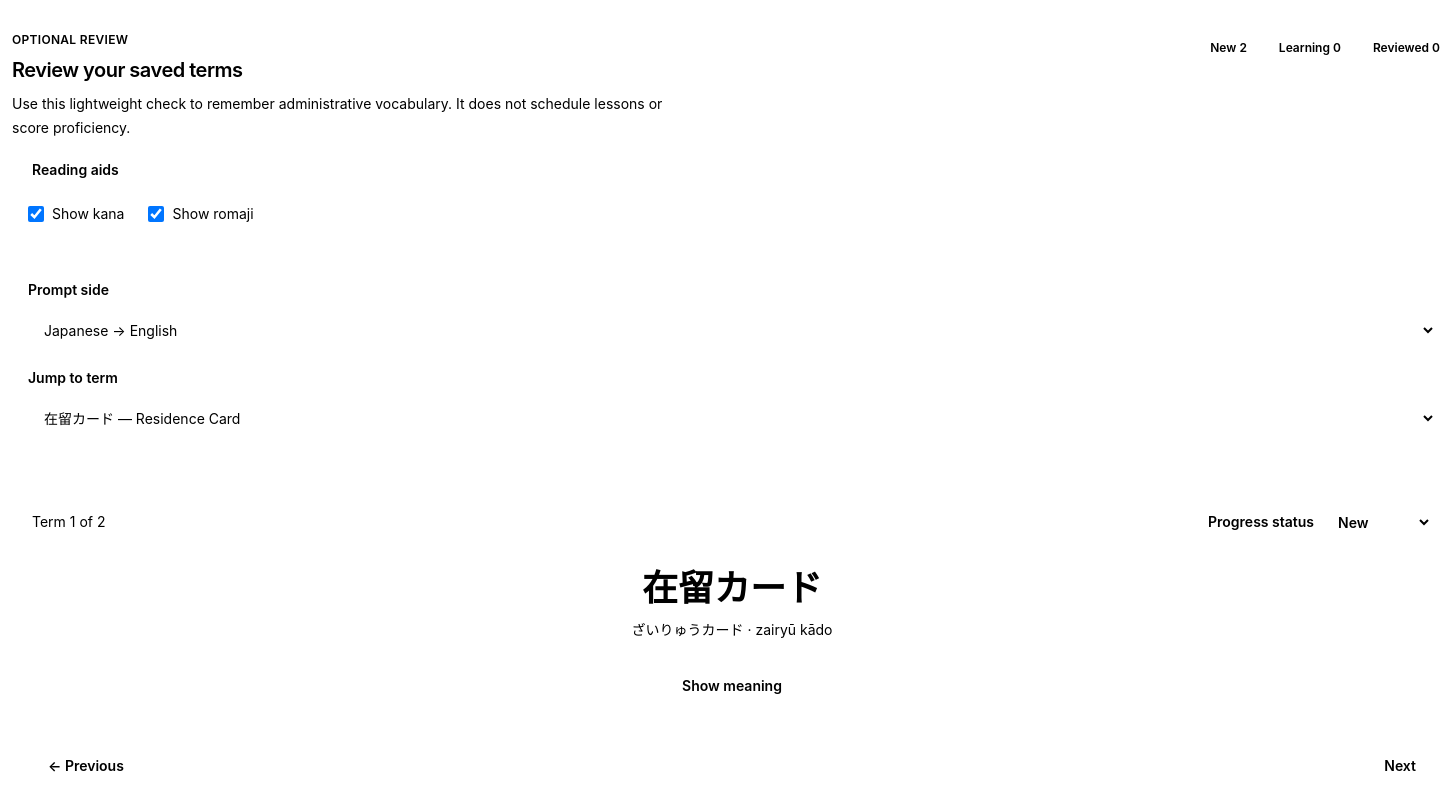
it: GlossaryStudyPanel › changes the prompt side and jumps directly to another term
Select "English → Japanese" in the dropdown labelled "Prompt side": x=732, y=330 28,308 -> 1436,352
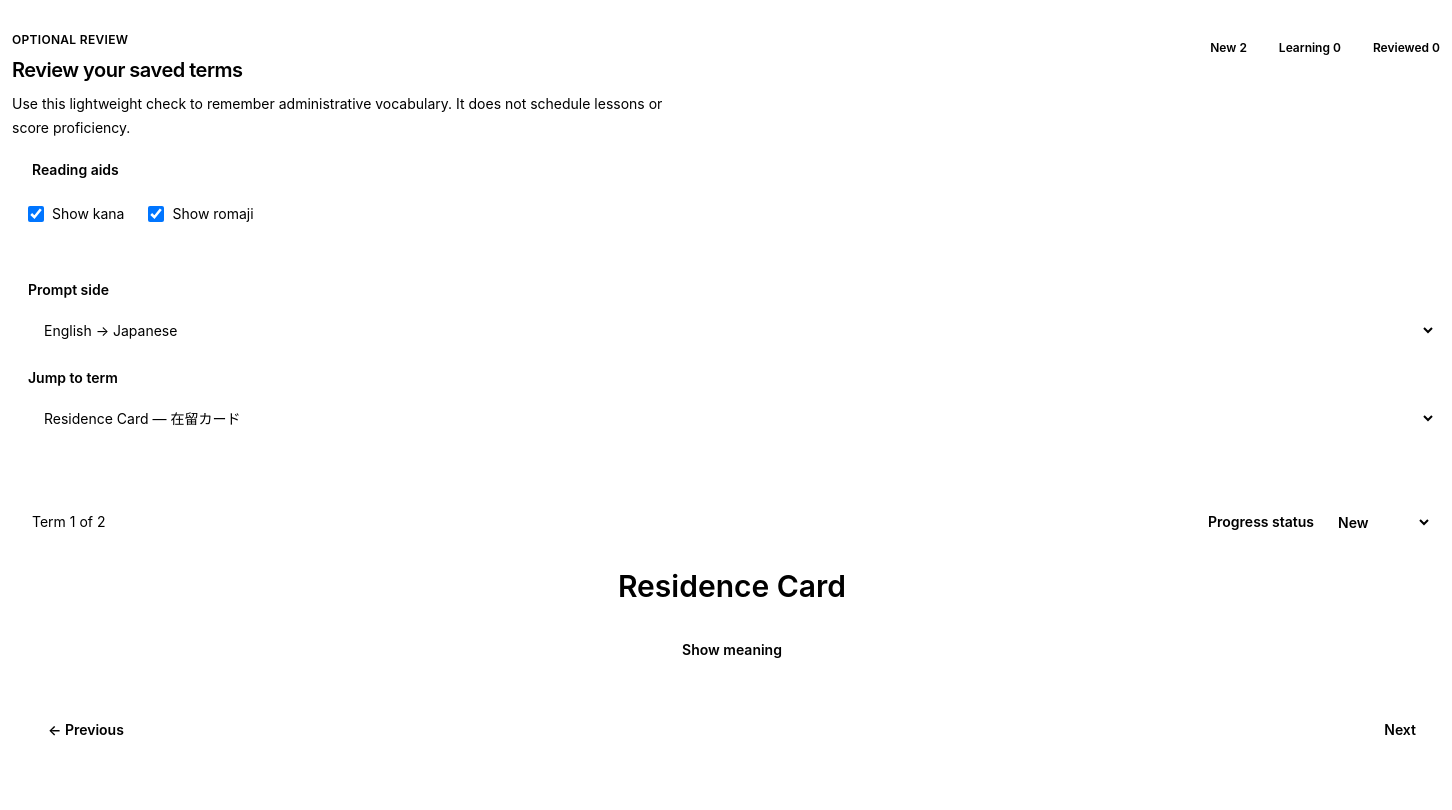
Select "Status of Residence — 在留資格" in the dropdown labelled "Jump to term": x=732, y=418 28,396 -> 1436,440
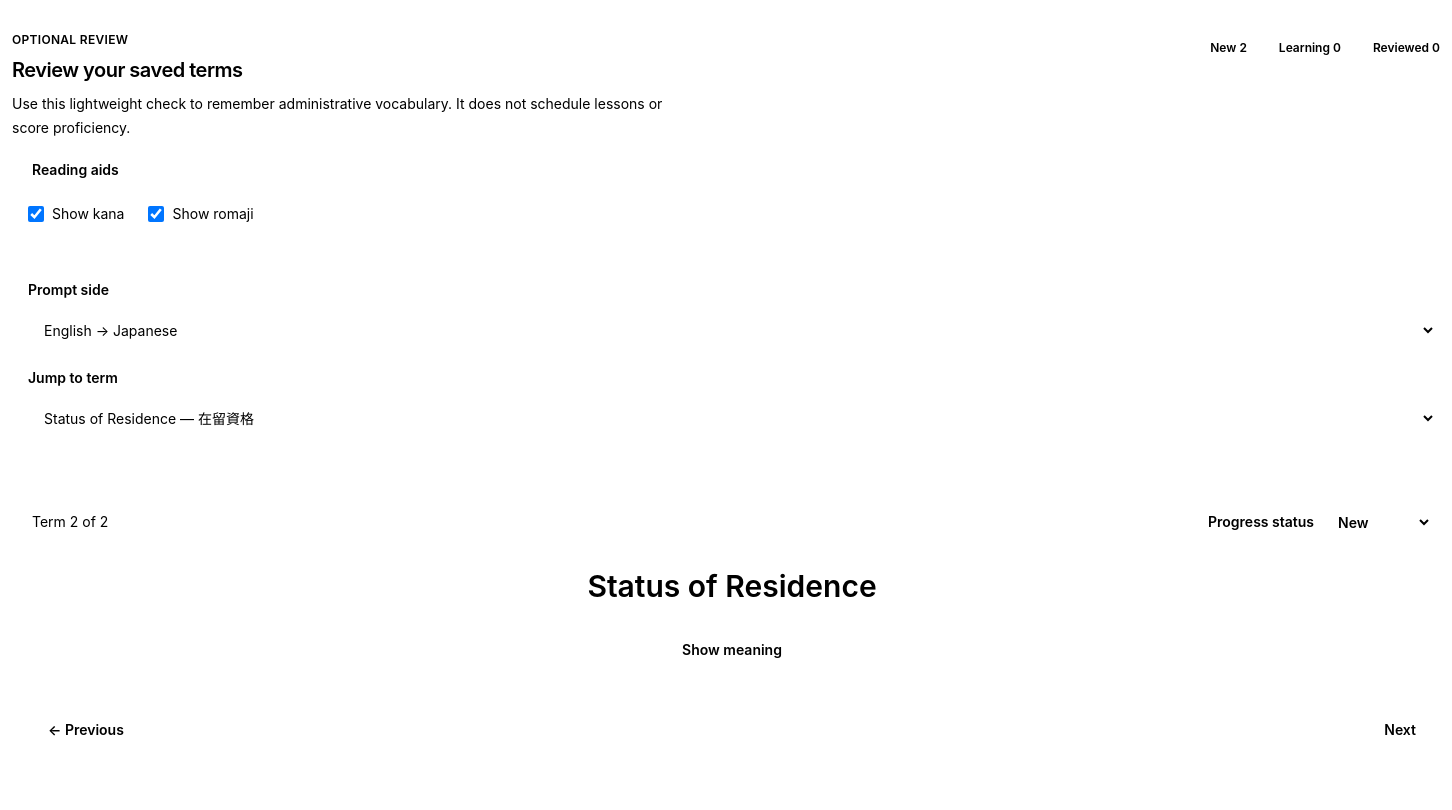
Now the text "Status of Residence" is shown, box 587,568 -> 877,604
Click the button "Show meaning": x=732, y=650 658,628 -> 806,672
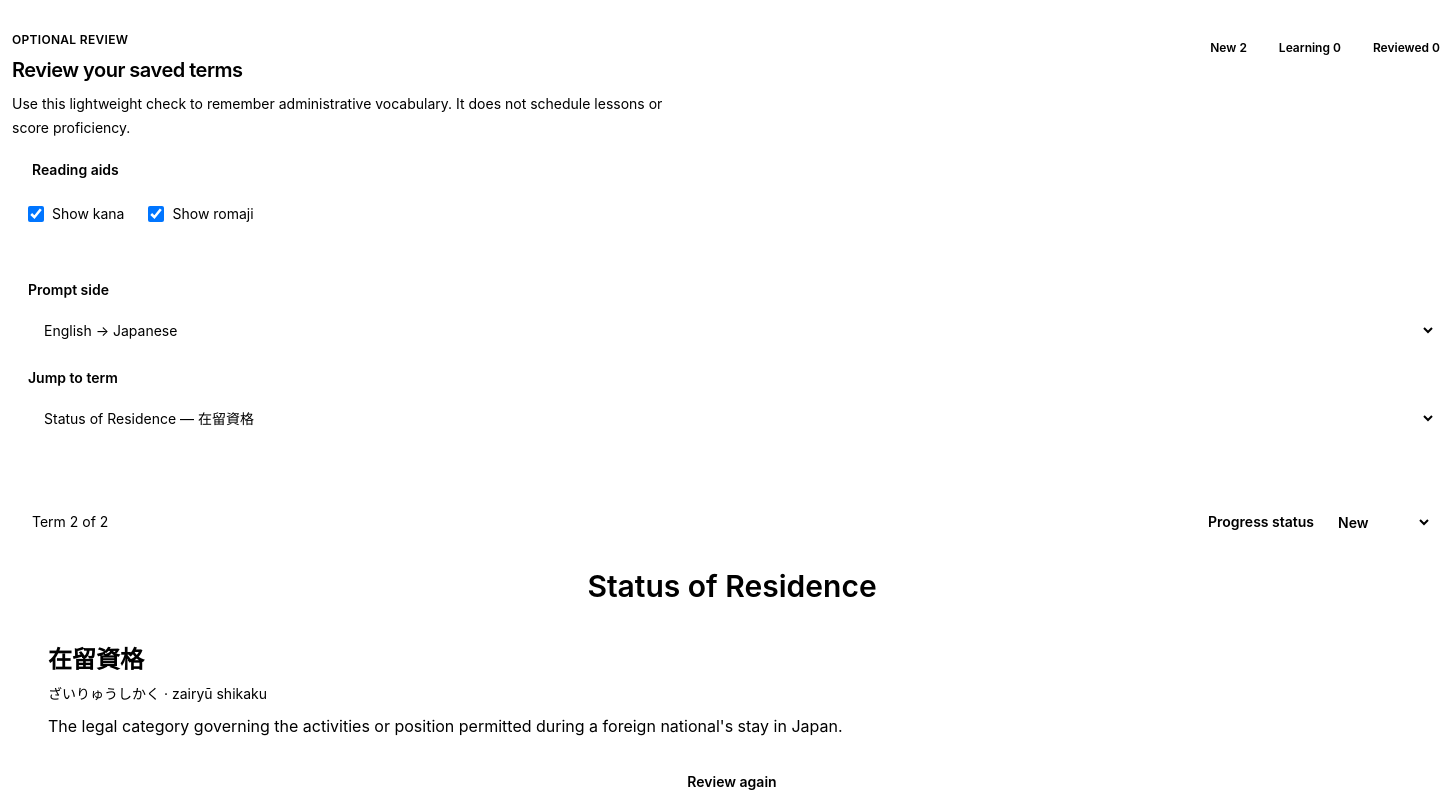
Now the text "在留資格" is shown, box 48,645 -> 144,674
